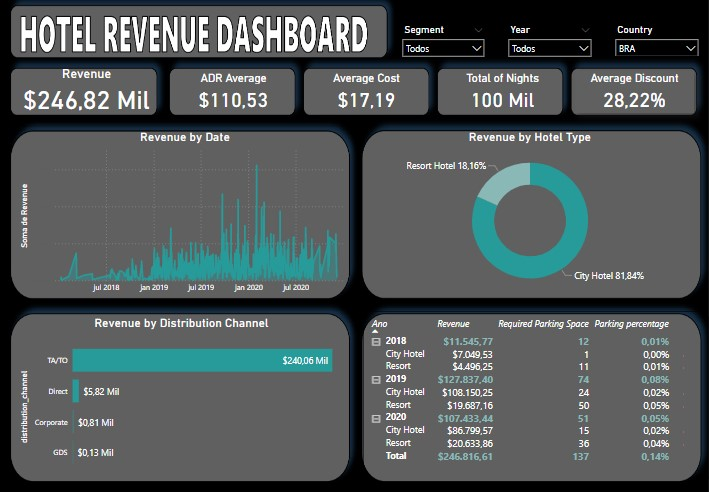

The dashboard page shown, as its layout file describes it:
{"tool":"powerbi","page":{"name":"Página 1","canvas":[1280,900],"ordinal":0},"visuals":[{"type":"card","title":"Revenue","fields":{"Values":["Sum(Consulta1.Revenue)"]},"box":[34.2,127.8,250.2,84.6],"z":0},{"type":"card","title":"ADR Average","fields":{"Values":["Avg(Consulta1.adr)"]},"box":[313.2,136.8,221.4,75.6],"z":1000},{"type":"card","title":"Average Cost","fields":{"Values":["Avg(Consulta1.Cost)"]},"box":[552.6,136.8,221.4,75.6],"z":2000},{"type":"card","title":"Total of Nights","fields":{"Values":["Consulta1.Medida"]},"box":[797.4,136.8,221.4,75.6],"z":3000},{"type":"card","title":"Average Discount","fields":{"Values":["Avg(Consulta1.Discount)"]},"box":[1038.6,136.8,214.2,75.6],"z":4000},{"type":"areaChart","title":"Revenue by Date","fields":{"Category":["Consulta1.Reservation_date"],"Y":["Sum(Consulta1.Revenue)"]},"box":[34.2,243,604.8,302.4],"z":5000},{"type":"slicer","fields":{"Values":["Consulta1.country"]},"box":[1101.6,46.8,169.2,63],"z":6000},{"type":"donutChart","title":"Revenue by Hotel Type","fields":{"Category":["Consulta1.hotel"],"Y":["Sum(Consulta1.Revenue)"]},"box":[646.2,243,622.8,302.4],"z":7000},{"type":"barChart","title":"Revenue by Distribution Channel","fields":{"Category":["Consulta1.distribution_channel"],"Y":["Sum(Consulta1.Revenue)"]},"box":[34.2,577.8,592.2,295.2],"z":8000},{"type":"pivotTable","fields":{"Values":["Sum(Consulta1.Revenue)","Sum(Consulta1.required_car_parking_spaces)","Consulta1.Parking percentage"],"Rows":["Consulta1.Reservation_date.Variation.Hierarquia de datas.Ano","Consulta1.hotel"]},"box":[657,568.8,622.8,313.2],"z":9000},{"type":"slicer","fields":{"Values":["Consulta1.Reservation_date.Variation.Hierarquia de datas.Ano"]},"box":[909,46.8,169.2,64.8],"z":10000},{"type":"slicer","fields":{"Values":["Consulta1.market_segment"]},"box":[718.2,46.8,167.4,64.8],"z":11000}]}

Visuals, with their boxes in screenshot pixels (x1, y1, x2, y2), scaled from the page's 1280x900 canvas onto the 709x492 screenshot:
"Revenue" card: locate(19, 70, 158, 116)
"ADR Average" card: locate(173, 75, 296, 116)
"Average Cost" card: locate(306, 75, 429, 116)
"Total of Nights" card: locate(442, 75, 564, 116)
"Average Discount" card: locate(575, 75, 694, 116)
"Revenue by Date" areaChart: locate(19, 133, 354, 298)
slicer - Consulta1.country: locate(610, 26, 704, 60)
"Revenue by Hotel Type" donutChart: locate(358, 133, 703, 298)
"Revenue by Distribution Channel" barChart: locate(19, 316, 347, 477)
pivotTable - Sum(Consulta1.Revenue) x Sum(Consulta1.required_car_parking_spaces): locate(364, 311, 708, 482)
slicer - Consulta1.Reservation_date.Variation.Hierarquia de datas.Ano: locate(504, 26, 597, 61)
slicer - Consulta1.market_segment: locate(398, 26, 491, 61)
